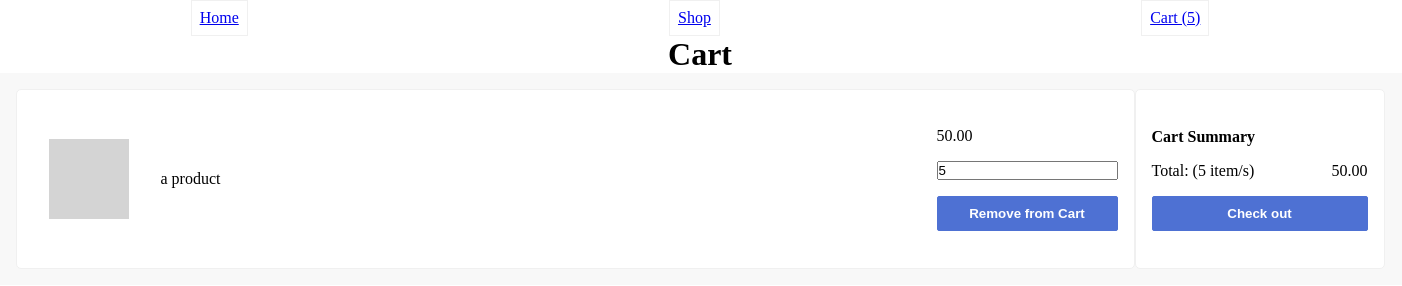
Test: CartItem component › when updating the quantity › updates the cart navigation menu quantity
This screenshot has width=1402, height=286.
Click the number field: click(1027, 170) x1=936 y1=161 x2=1118 y2=180
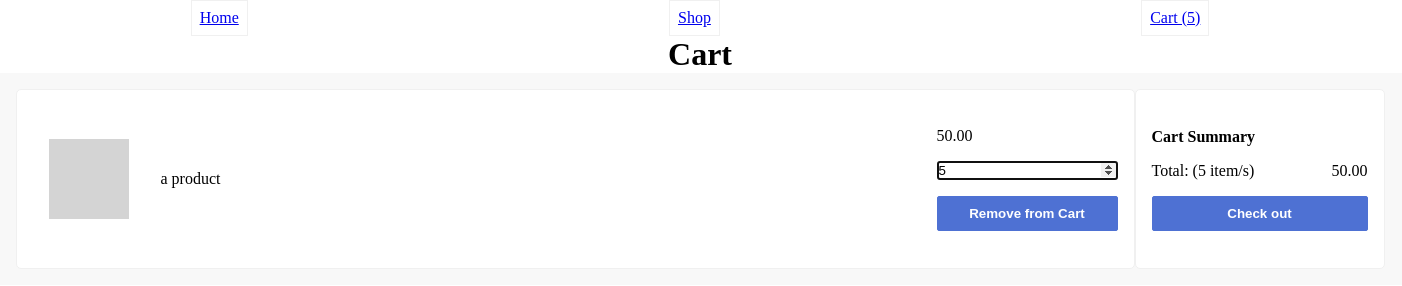
Type keys "{Control>}A{/Control}{7}"
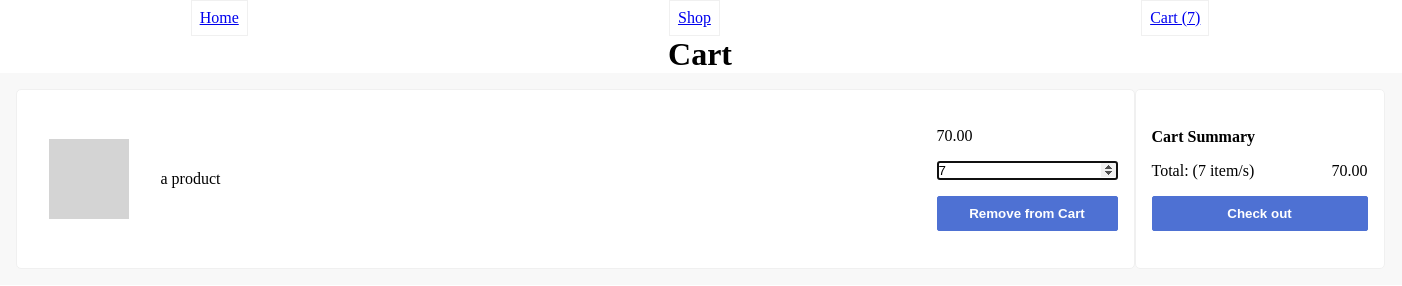
Expected: the number field holds "7", x1=936 y1=161 x2=1118 y2=180
Expected: the link named "Cart (5)" reads "Cart (7)", x1=1141 y1=0 x2=1209 y2=36
